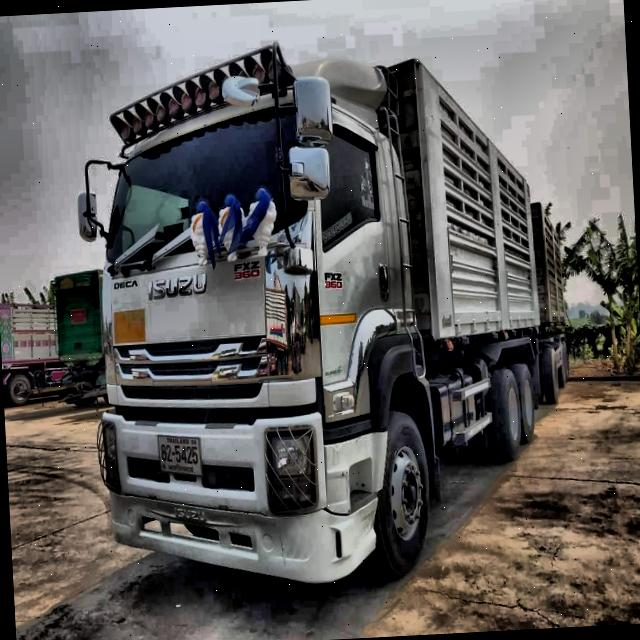trailer: (72, 19, 594, 612)
